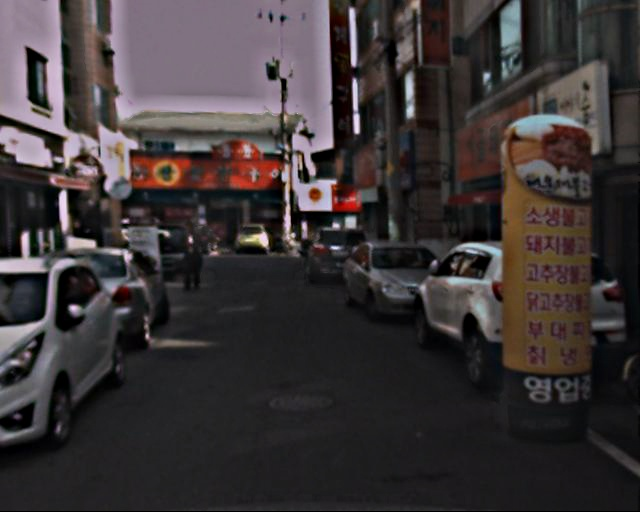person: (176, 217, 213, 293)
